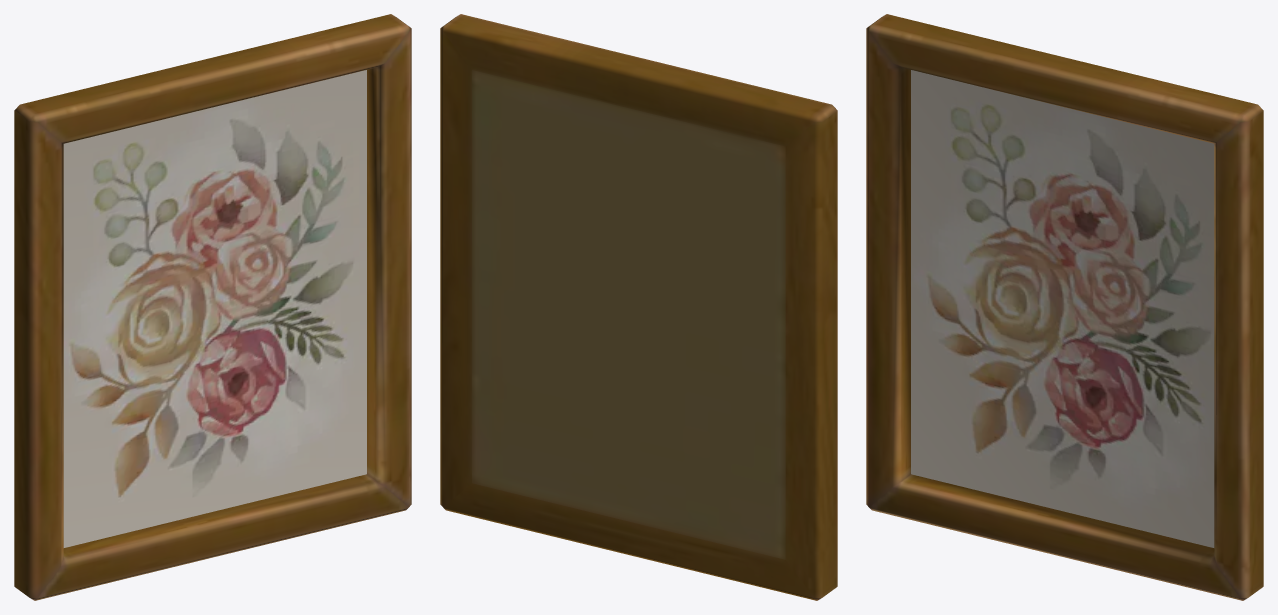
3 renders of one model, left to right at view 1: azimuth 30°, elevation 25°; view 2: azimuth 150°, elevation 25°; view 3: azimuth 330°, elevation 25°, orthographic.
Bounding box in the file's own units: 7.98 × 9.68 × 0.7371.
Materials: 2 (2 with a texture image).
